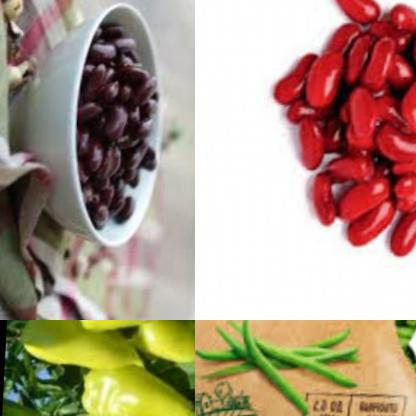bell pepper: (8, 320, 158, 382), (72, 352, 195, 416), (68, 320, 195, 346)
fasol: (257, 0, 416, 276), (75, 21, 181, 219), (195, 320, 371, 416)
